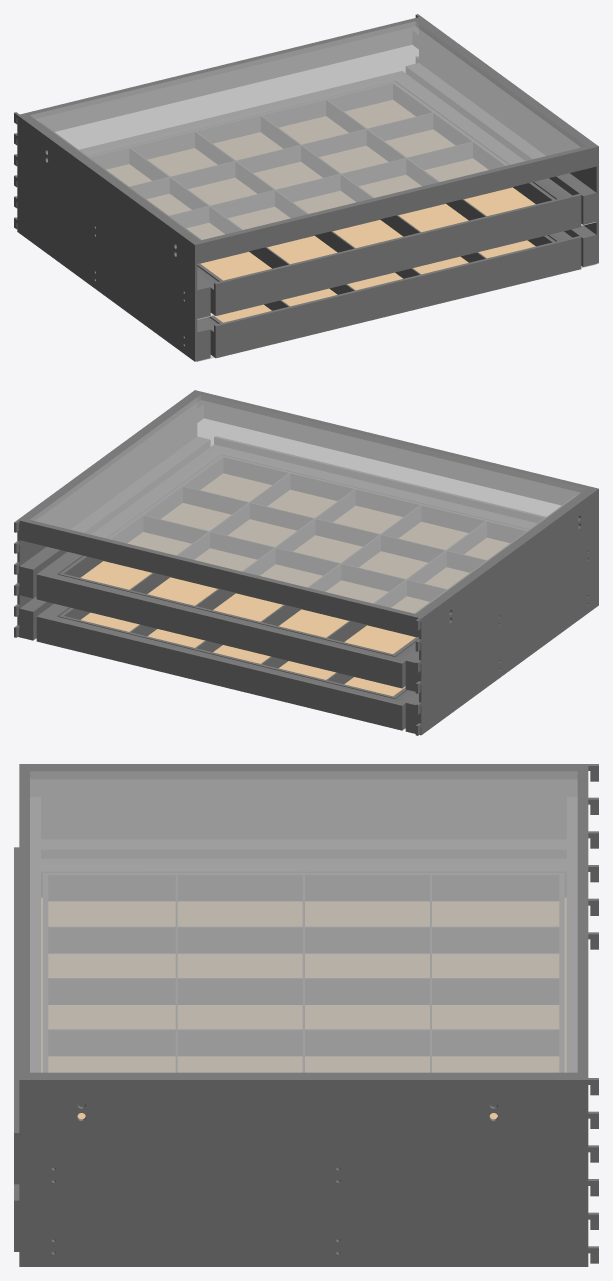
The picture shows the model from 3 angles, top to bottom: view 1: azimuth 30°, elevation 25°; view 2: azimuth 150°, elevation 25°; view 3: azimuth 270°, elevation 25°; orthographic projection. The views are drawn at different scales.
Visible parts, largest first — view 1: Geom3D (×3); view 2: Geom3D (×3); view 3: Geom3D (×3).
Boxes of the visible parts, left/top/right/bottom form: Geom3D (×3): left=14, top=14, right=598, bottom=361; Geom3D (×3): left=14, top=390, right=598, bottom=735; Geom3D (×3): left=14, top=764, right=598, bottom=1266.
Bounding box in the file's own units: 0.6518 × 0.181 × 0.5103.
